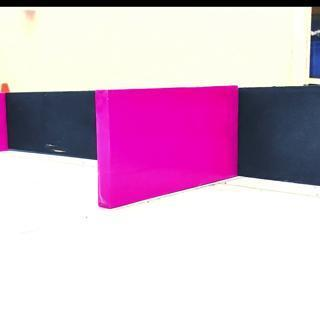xparking: (97, 92, 239, 187)
